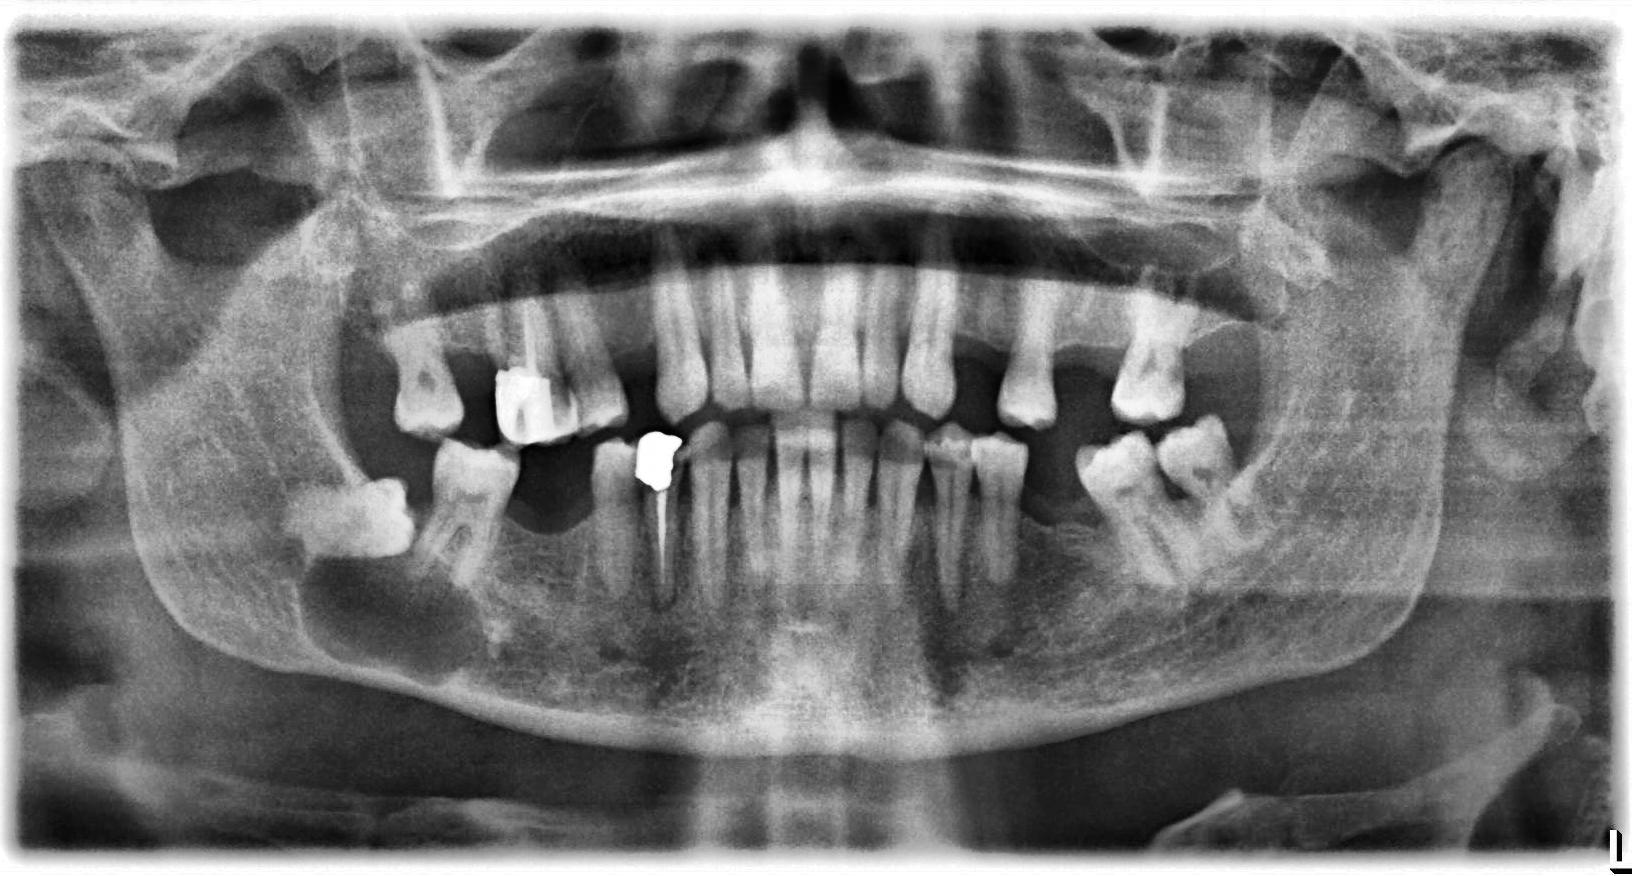keratokist: (300, 541, 486, 687)
